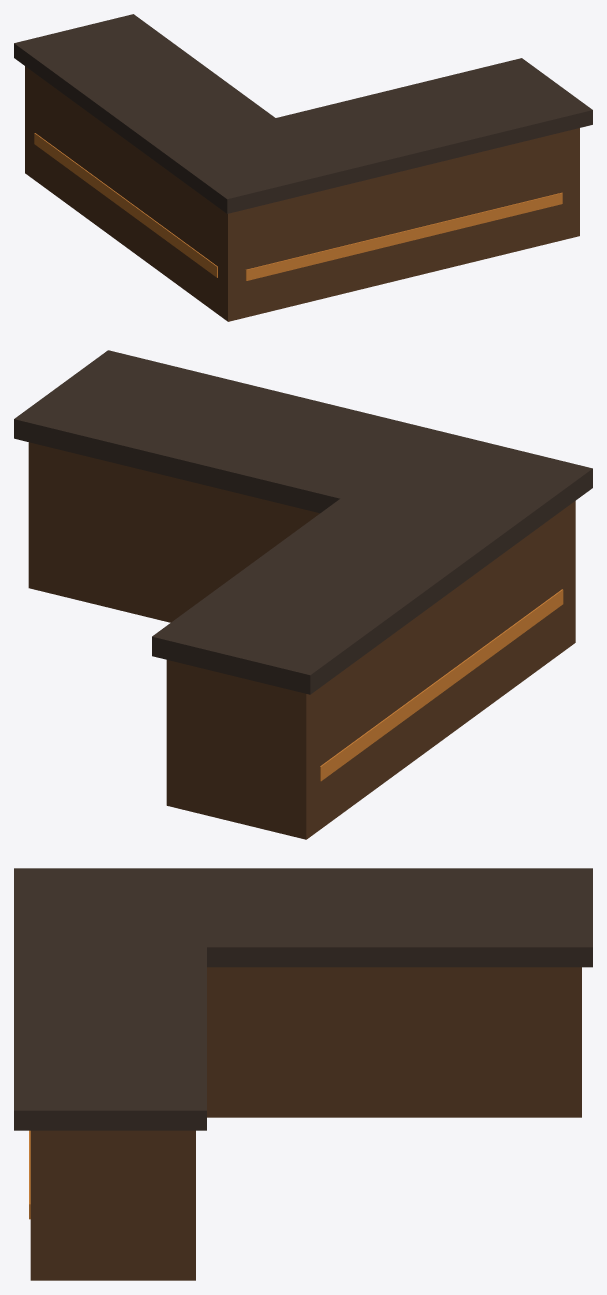
Rendered from cantina_bar_corner.glb.
The picture shows the model from 3 angles, top to bottom: view 1: azimuth 30°, elevation 25°; view 2: azimuth 150°, elevation 25°; view 3: azimuth 270°, elevation 25°; orthographic projection. The views are drawn at different scales.
Visible parts, largest first — view 1: sw5e_int_cantina_bar_corner; view 2: sw5e_int_cantina_bar_corner; view 3: sw5e_int_cantina_bar_corner.
Part boxes in pixels (left/top/right/bottom): sw5e_int_cantina_bar_corner: left=14, top=14, right=592, bottom=321; sw5e_int_cantina_bar_corner: left=14, top=350, right=592, bottom=839; sw5e_int_cantina_bar_corner: left=14, top=868, right=592, bottom=1280.
Bounding box in the file's own units: 2.08 × 0.7 × 2.1.
